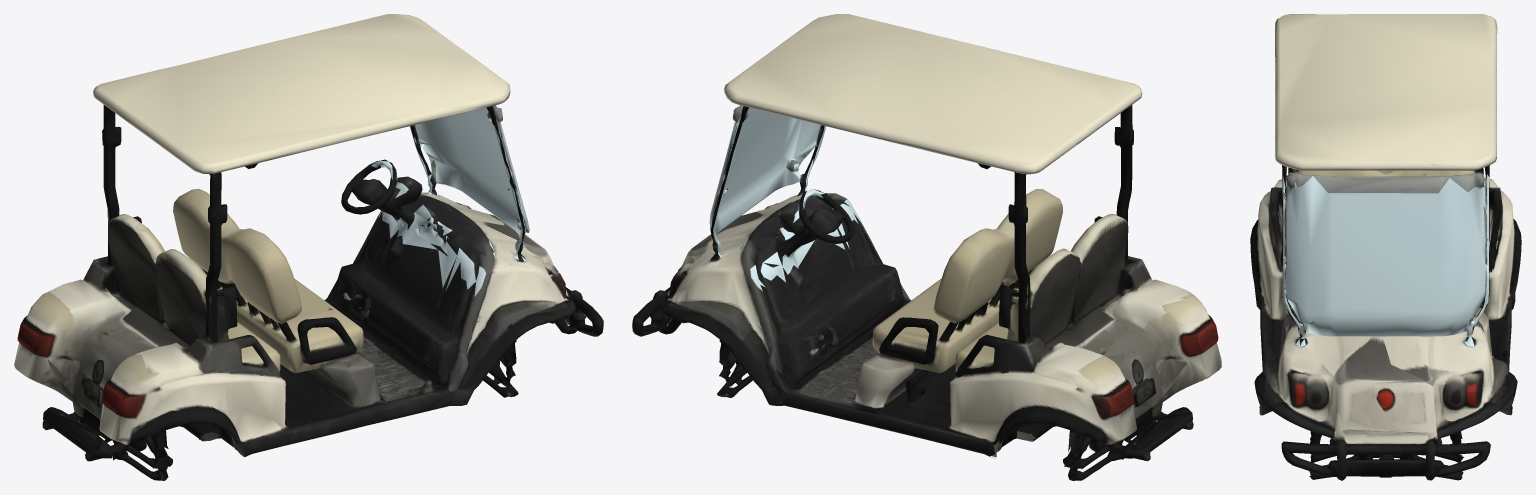
The model's file is SM_Buggy_Body.fbx.
The picture shows the model from 3 angles, left to right: view 1: azimuth 30°, elevation 25°; view 2: azimuth 150°, elevation 25°; view 3: azimuth 270°, elevation 25°; orthographic projection. The views are drawn at different scales.
Visible parts, largest first — view 1: SM_Buggy_Body; view 2: SM_Buggy_Body; view 3: SM_Buggy_Body.
Boxes of the visible parts, x1,y1,x2,y2 form: SM_Buggy_Body: (14, 14, 603, 480); SM_Buggy_Body: (632, 14, 1221, 480); SM_Buggy_Body: (1250, 14, 1521, 480).
Bounding box in the file's own units: 2.36 × 1.16 × 1.47.
